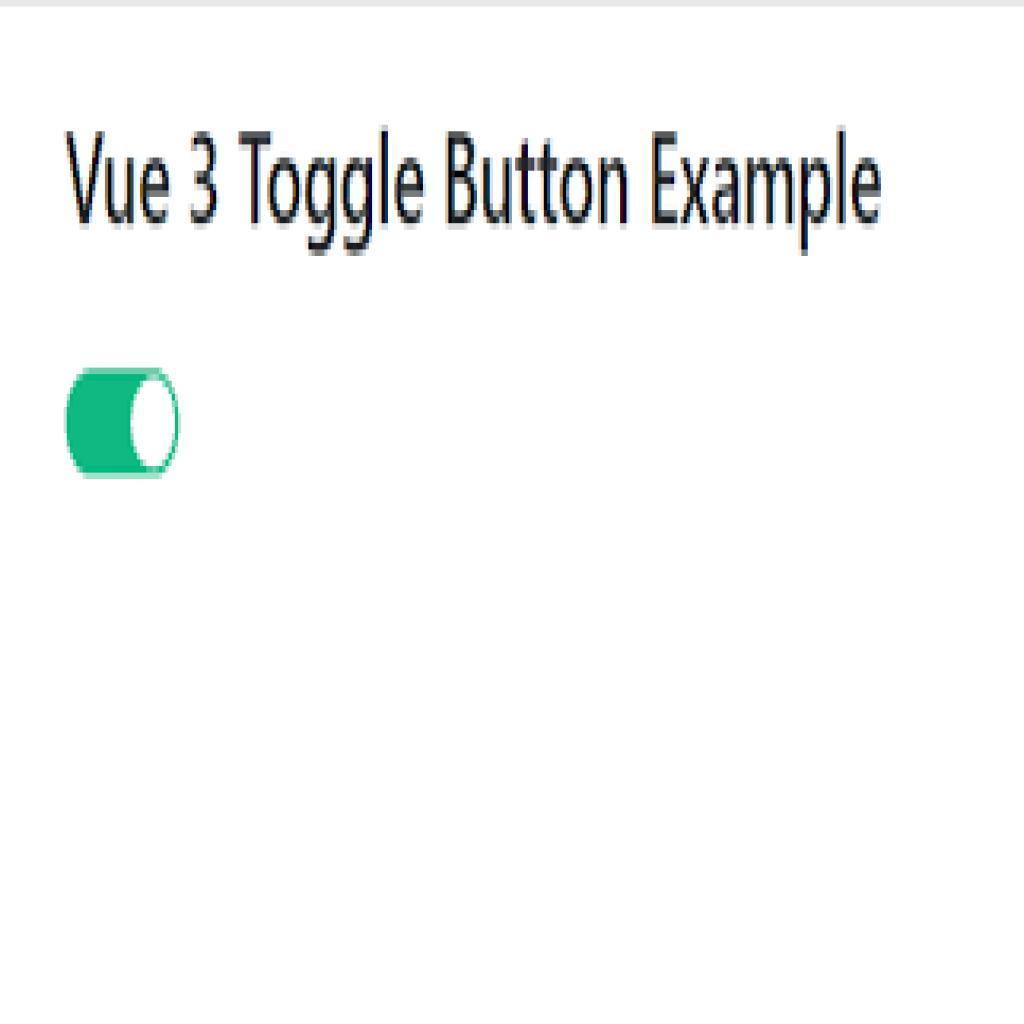label: (58, 122, 890, 262)
switch: (64, 368, 183, 480)
